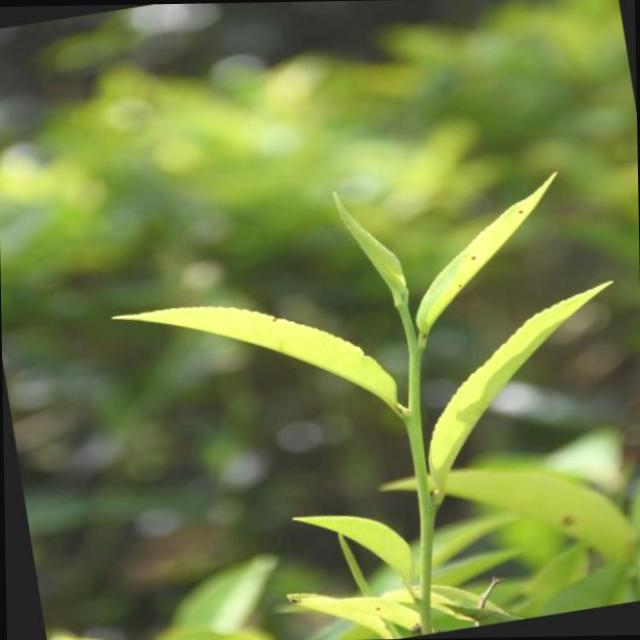Stem: (401, 414, 425, 462)
